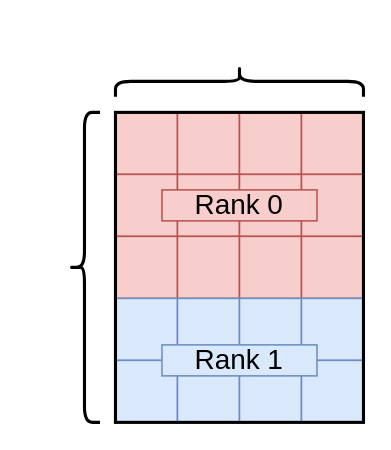
Image size: 391x450. Some labels were removed from this diagram. Here are the shapes that lost their labels. From the top down, the box of each, then its label:
(113, 64, 364, 98): NX
(67, 110, 101, 423): NY
